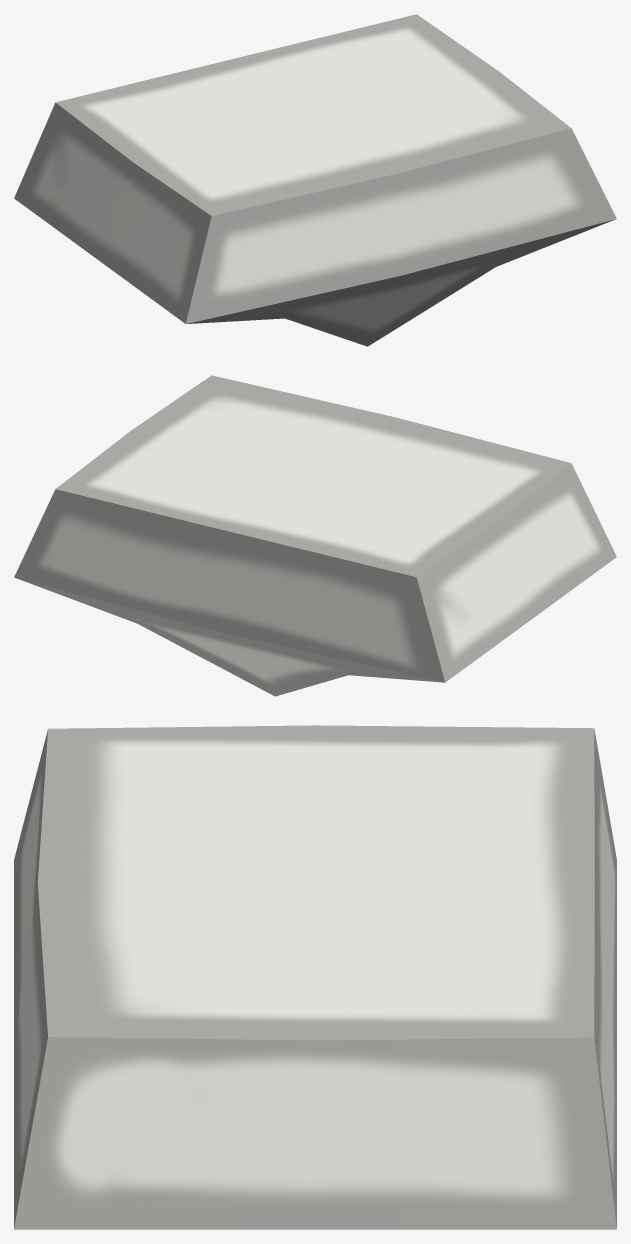
File: hips.fbx
3 renders of one model, top to bottom at view 1: azimuth 30°, elevation 25°; view 2: azimuth 150°, elevation 25°; view 3: azimuth 270°, elevation 25°, orthographic. The views are drawn at different scales.
Visible parts, largest first — view 1: hips_Baked; view 2: hips_Baked; view 3: hips_Baked.
Part boxes in pixels (x1,y1,x2,y2): hips_Baked: [14, 14, 616, 346]; hips_Baked: [14, 375, 616, 696]; hips_Baked: [14, 725, 616, 1229].
Size of the model in its own units: 115 by 49.16 by 79.66.
1 material, 1 textured.
